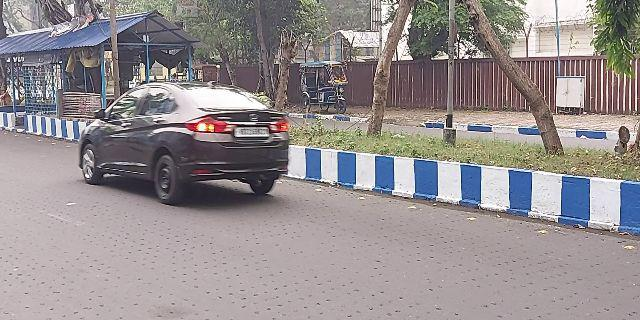Car: (72, 82, 300, 212)
